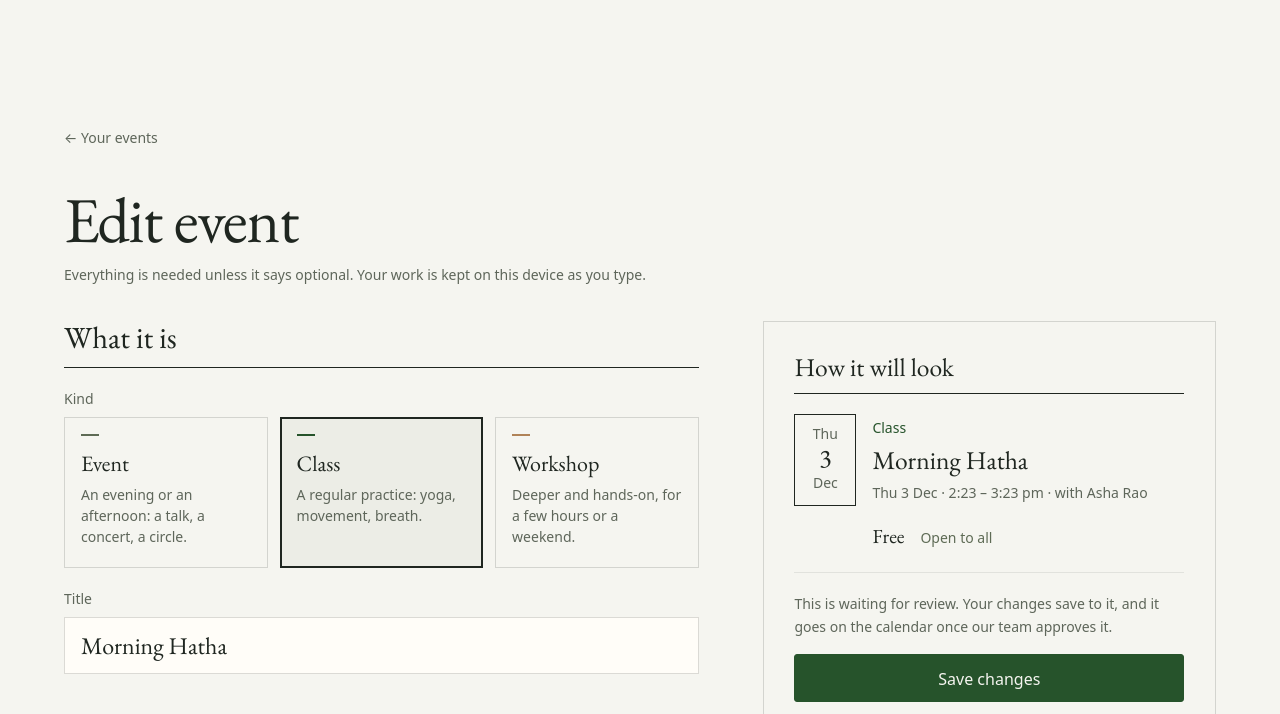
Test case: saving an event that’s waiting for review: it shows under Waiting for our team, and never claims it’s live
What coordinates should you click on to do the following:
click the button "Save changes"
I would click on:
 (989, 678)
Its box is [794,654,1184,702].
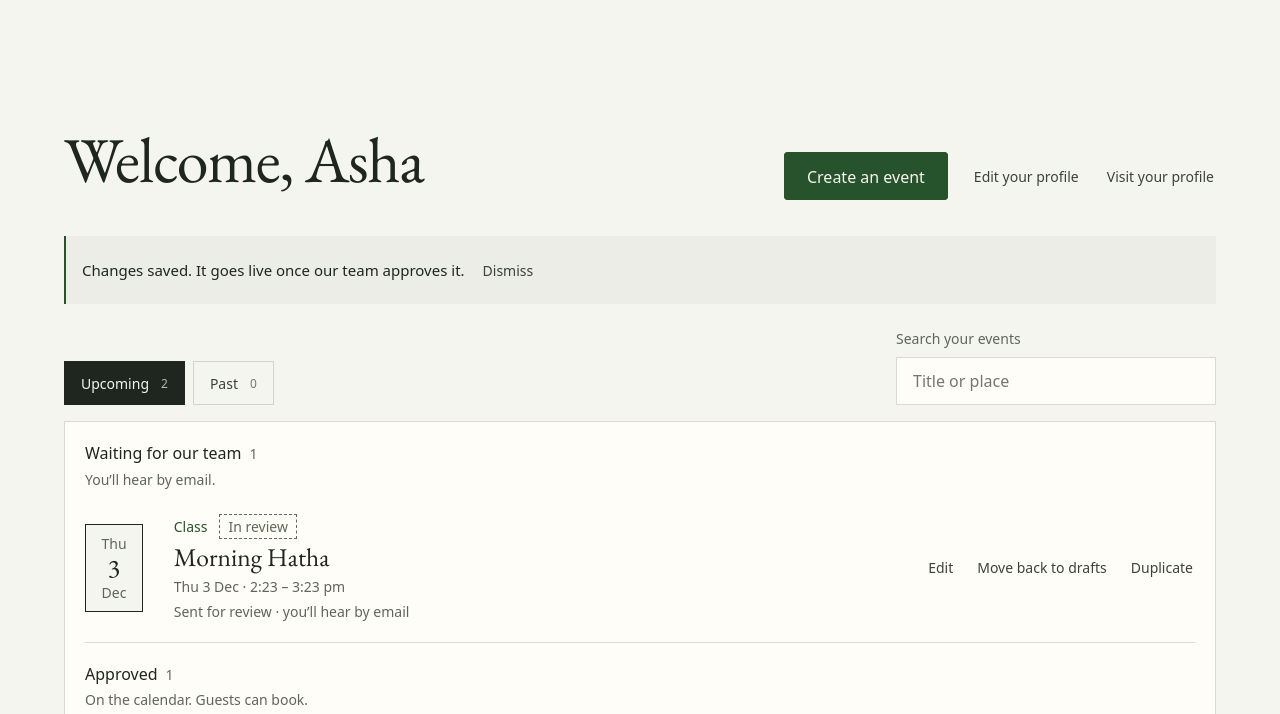
Now the message with class "sn-notice" shows "Changes saved. It goes live once our team approves it.", box [82,260,465,280]
